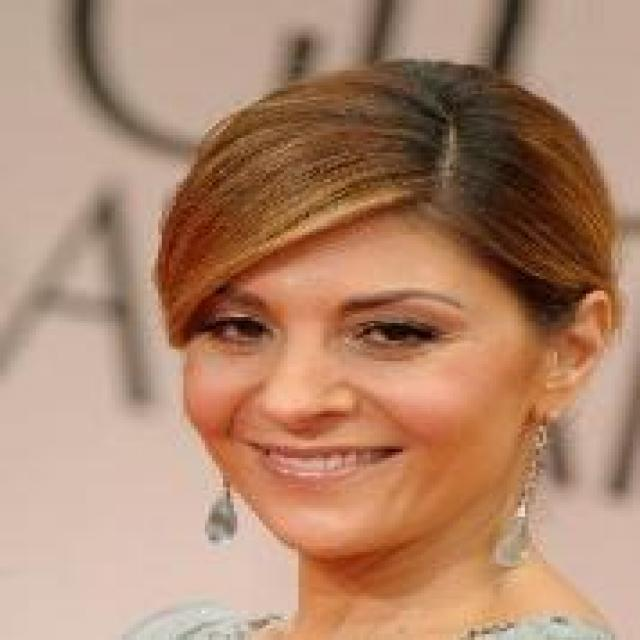nomask: (101, 67, 615, 555)
